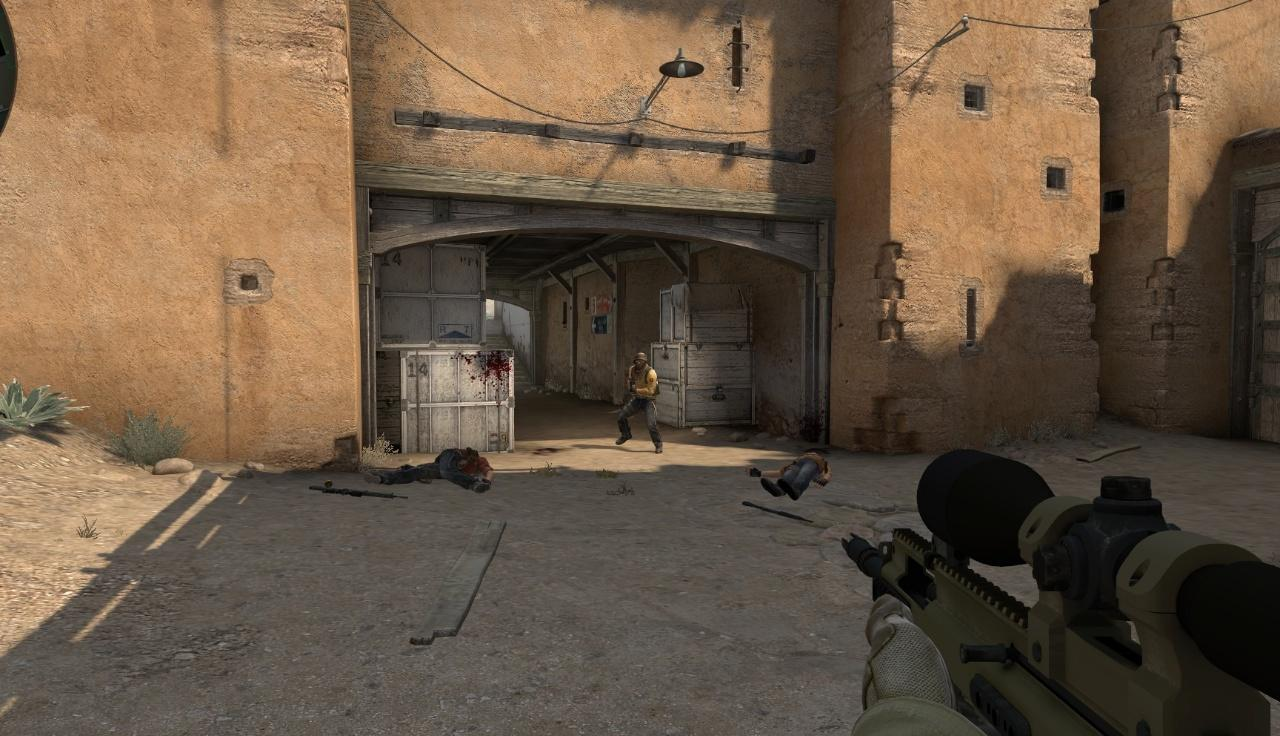sniper: (841, 453, 1280, 736)
tt: (617, 353, 662, 449)
tthead: (634, 353, 647, 370)
